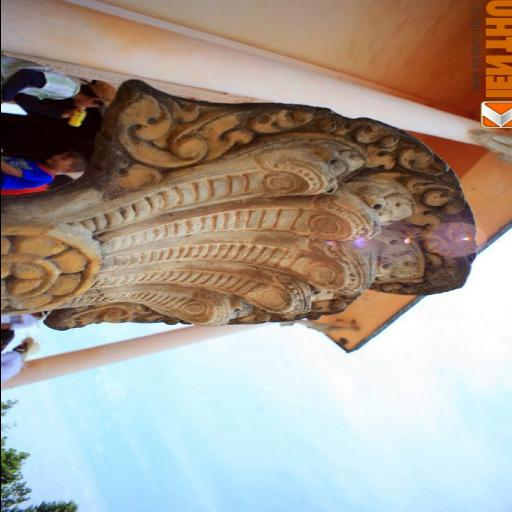ran: (94, 143, 465, 324)
